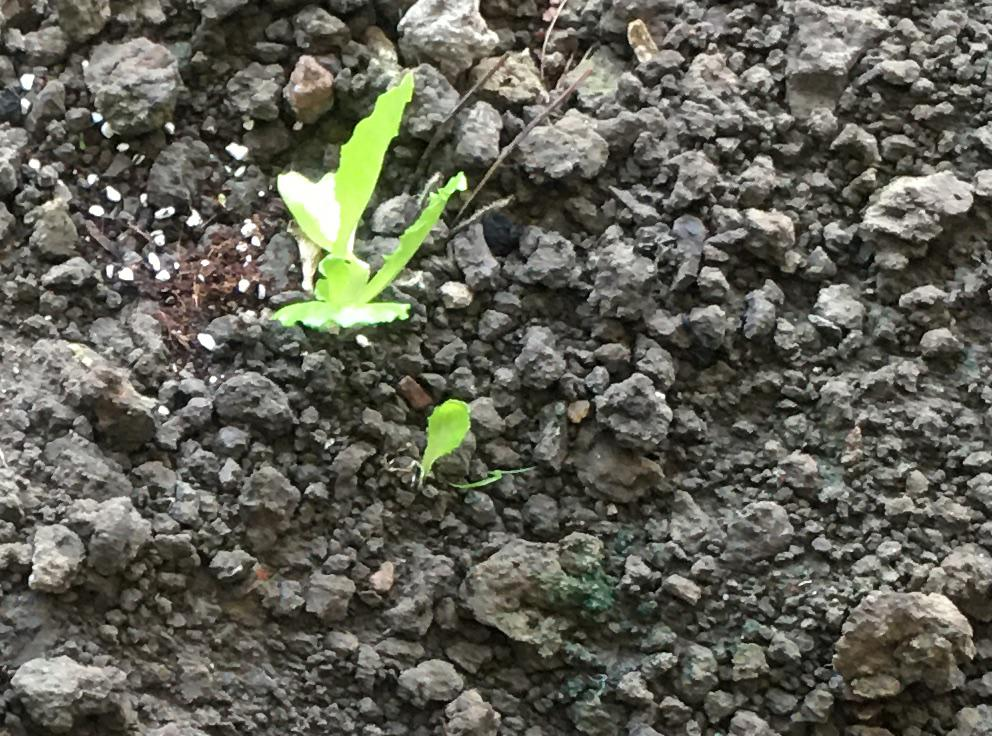block: (833, 587, 979, 707), (90, 40, 180, 139), (12, 658, 129, 730)
